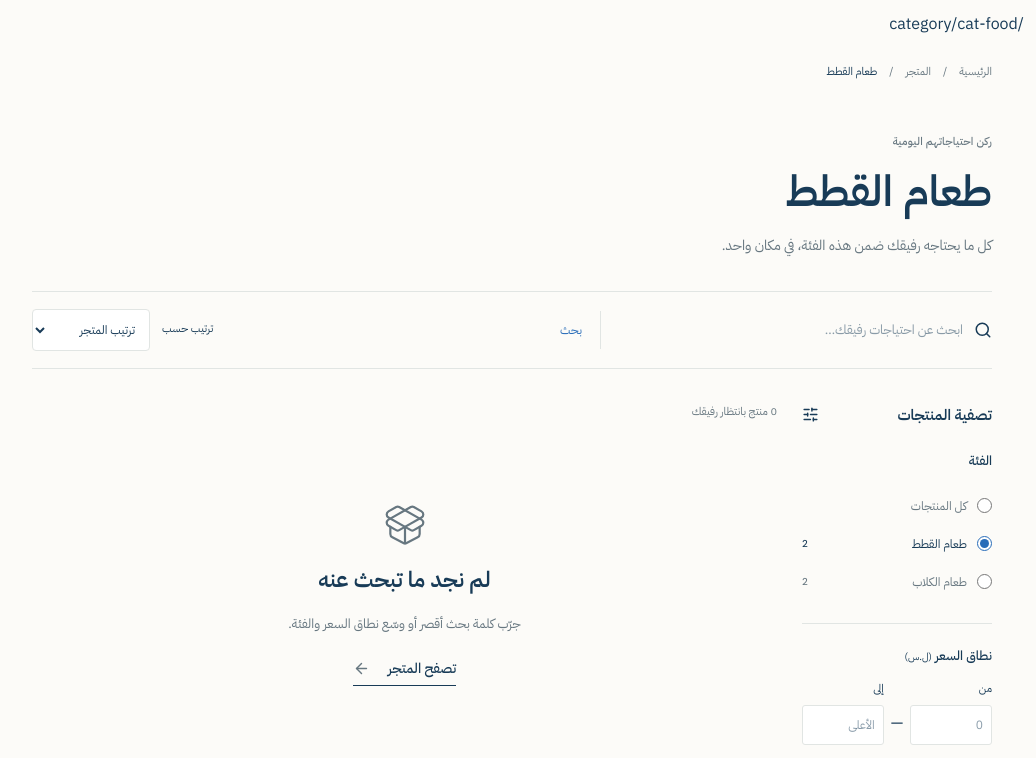
Scenario: catalog filters › changes category through the router without a document navigation
The width and height of the screenshot is (1036, 758).
Click the radio button labelled "طعام الكلاب 2": (984,582) [977,574,992,589]
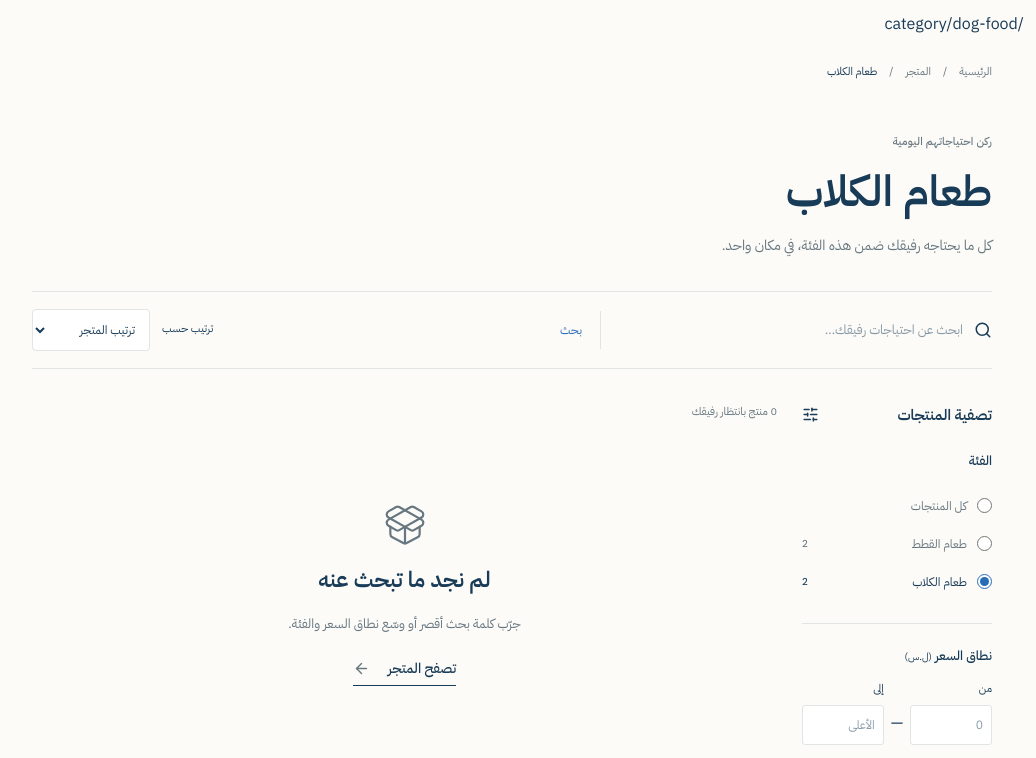
Expected: the text named "المسار الحالي" reads "/category/dog-food", [884,12,1024,36]
Expected: the radio button labelled "طعام الكلاب 2" is checked, [977,574,992,589]
